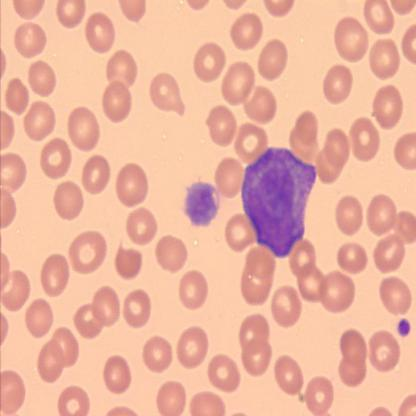Myelocyte: (243, 148, 318, 254)
